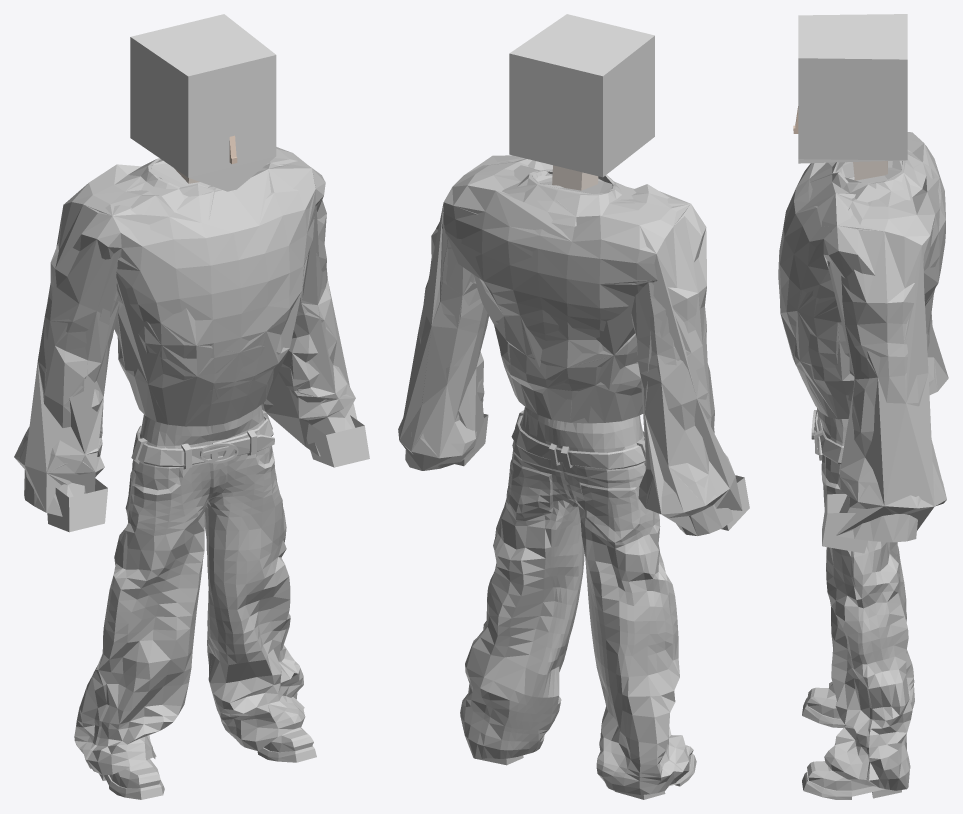
File: character_full_outfit.fbx
3 views of the same model, side by side, from view 1: azimuth 30°, elevation 25°; view 2: azimuth 150°, elevation 25°; view 3: azimuth 270°, elevation 25° (orthographic).
Parts seen in each view (by area): view 1: Sweater_1, Pants_1, cabeca, antebraco esquerdo, antebraco direito; view 2: Sweater_1, Pants_1, cabeca, pecoco; view 3: Sweater_1, Pants_1, cabeca, antebraco esquerdo, pecoco.
Part boxes in pixels (x1,y1,x2,y2): Sweater_1: [14, 147, 357, 516]; Pants_1: [74, 405, 316, 799]; cabeca: [130, 14, 276, 191]; antebraco esquerdo: [306, 415, 369, 467]; antebraco direito: [47, 478, 107, 532]; Sweater_1: [398, 155, 742, 535]; Pants_1: [460, 407, 696, 799]; cabeca: [509, 14, 654, 177]; pecoco: [552, 165, 598, 190]; Sweater_1: [778, 132, 948, 542]; Pants_1: [802, 408, 914, 799]; cabeca: [798, 14, 907, 163]; antebraco esquerdo: [822, 494, 867, 553]; pecoco: [853, 161, 887, 180].
Bounding box in the file's own units: 0.8572 × 1.82 × 0.3919.
